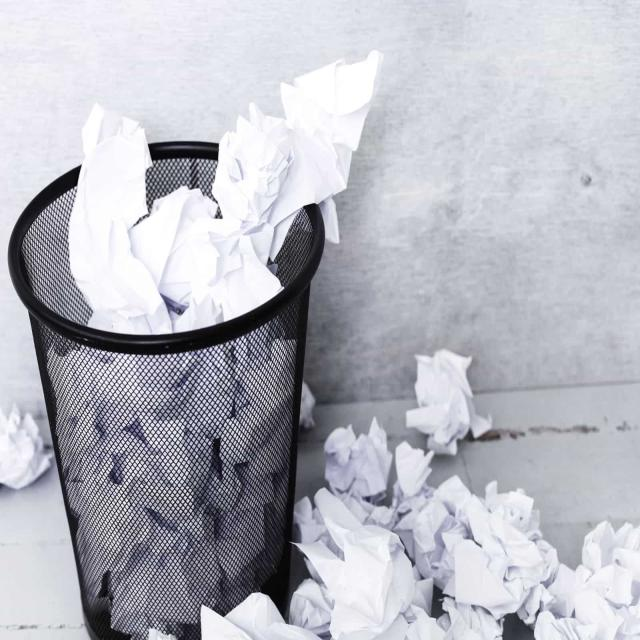Kertas: (202, 31, 407, 300), (62, 100, 170, 335), (474, 503, 640, 640), (404, 351, 504, 484), (318, 535, 459, 626), (309, 408, 406, 502), (0, 393, 66, 490)
